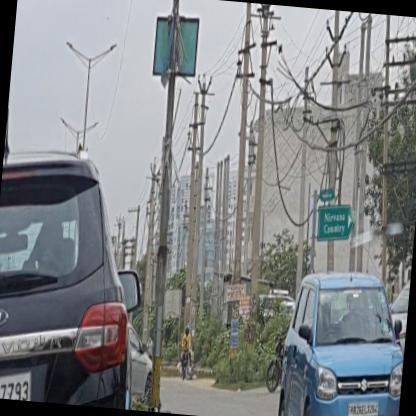car: (0, 152, 157, 410), (277, 265, 412, 415), (381, 262, 411, 396), (121, 320, 158, 404)
motorcycle: (178, 324, 199, 380)
